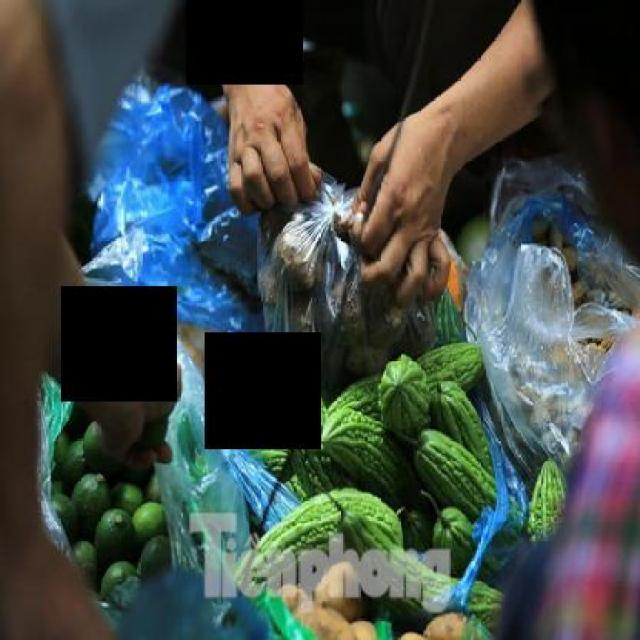plastic bag: (223, 141, 597, 637), (17, 78, 361, 611), (249, 152, 431, 371)
